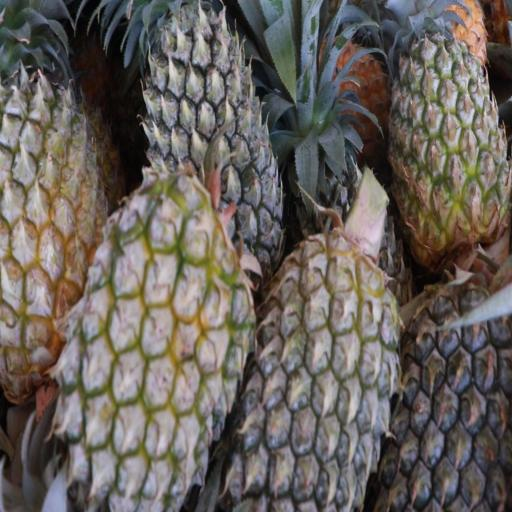------------------------------: (69, 188, 251, 512), (0, 0, 111, 367), (393, 8, 509, 254)
